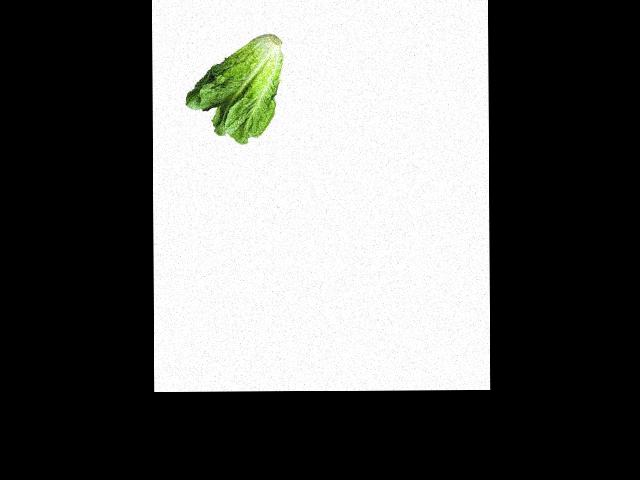lettuce: (179, 37, 281, 140)
